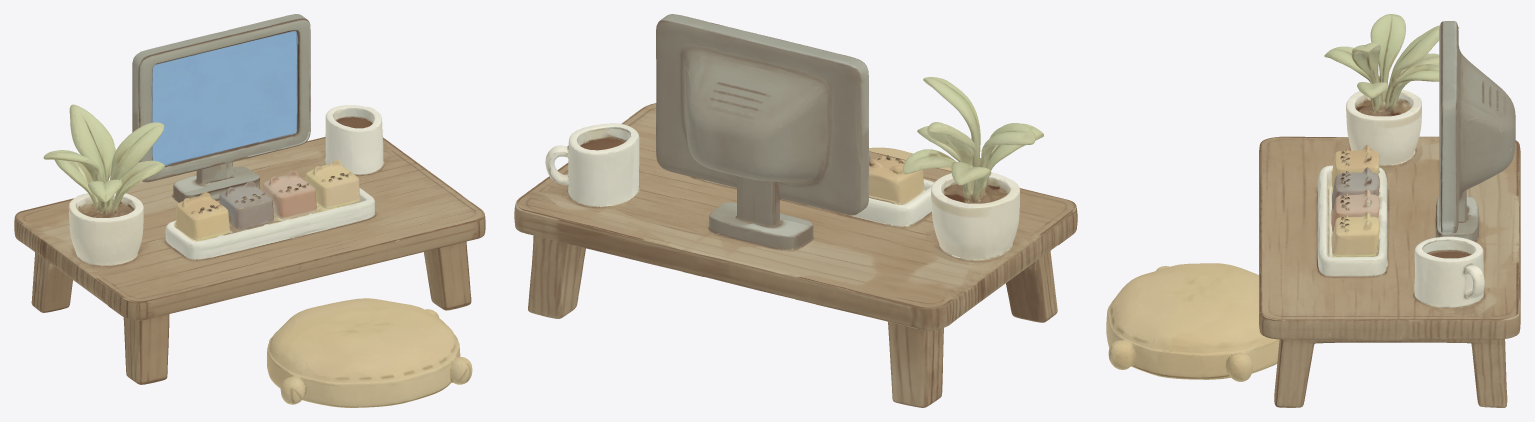
File: low-monitor-cat-keycap-workstation-smooth-cartoon-v1.glb
3 views of the same model, side by side, from view 1: azimuth 30°, elevation 25°; view 2: azimuth 150°, elevation 25°; view 3: azimuth 270°, elevation 25° (orthographic). The views are drawn at different scales.
Size of the model in its own units: 1.9 by 1.21 by 1.7.
1 material, 1 textured.
